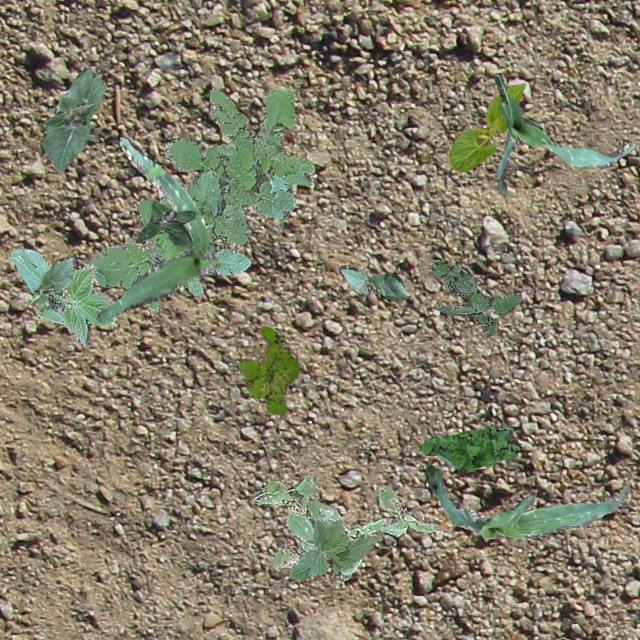crop: (96, 136, 220, 322), (494, 72, 634, 194), (424, 464, 628, 538), (9, 248, 118, 344), (448, 82, 524, 172), (40, 67, 104, 172), (288, 518, 376, 578), (29, 254, 74, 310), (338, 264, 408, 300)
weed: (89, 88, 314, 312), (252, 474, 439, 580), (432, 260, 520, 334), (238, 326, 298, 414), (419, 422, 522, 470), (134, 200, 194, 244)
